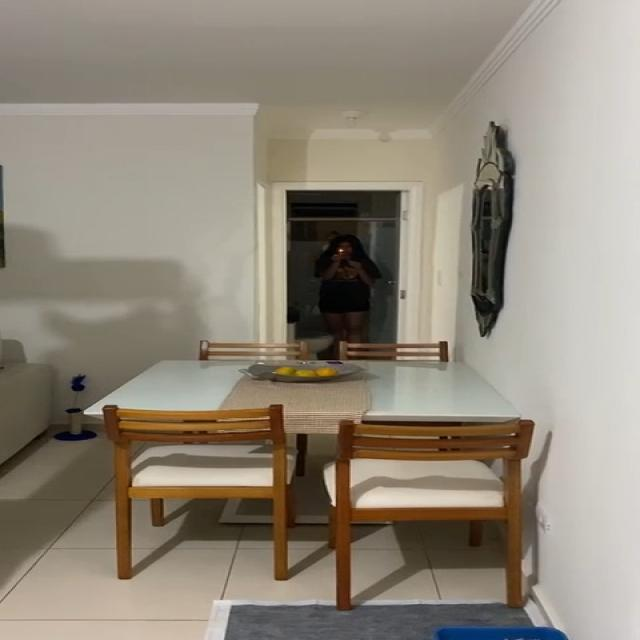fogo-ypXI: (338, 249, 344, 252)
